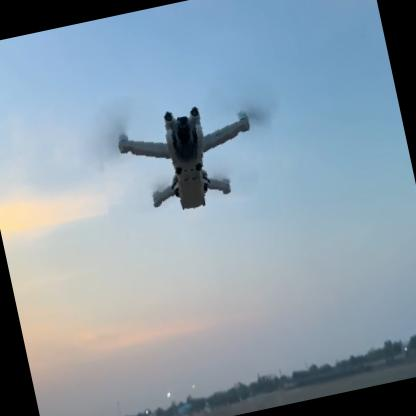drone: (86, 62, 292, 247)
